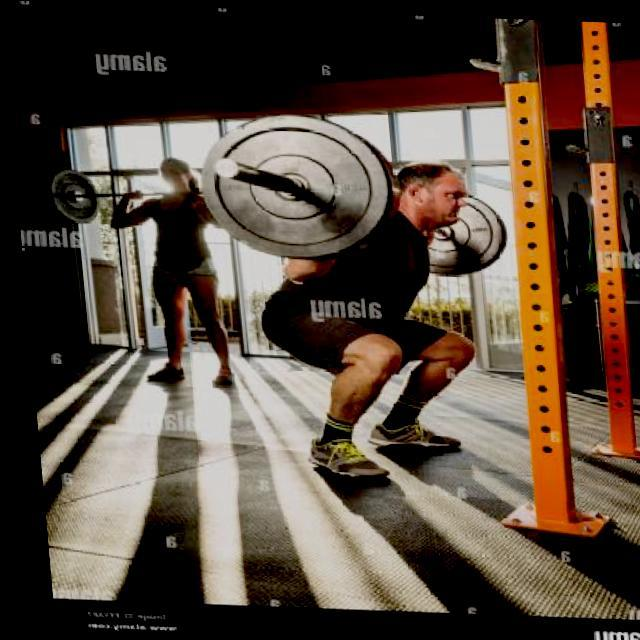barbell: (183, 107, 406, 265)
